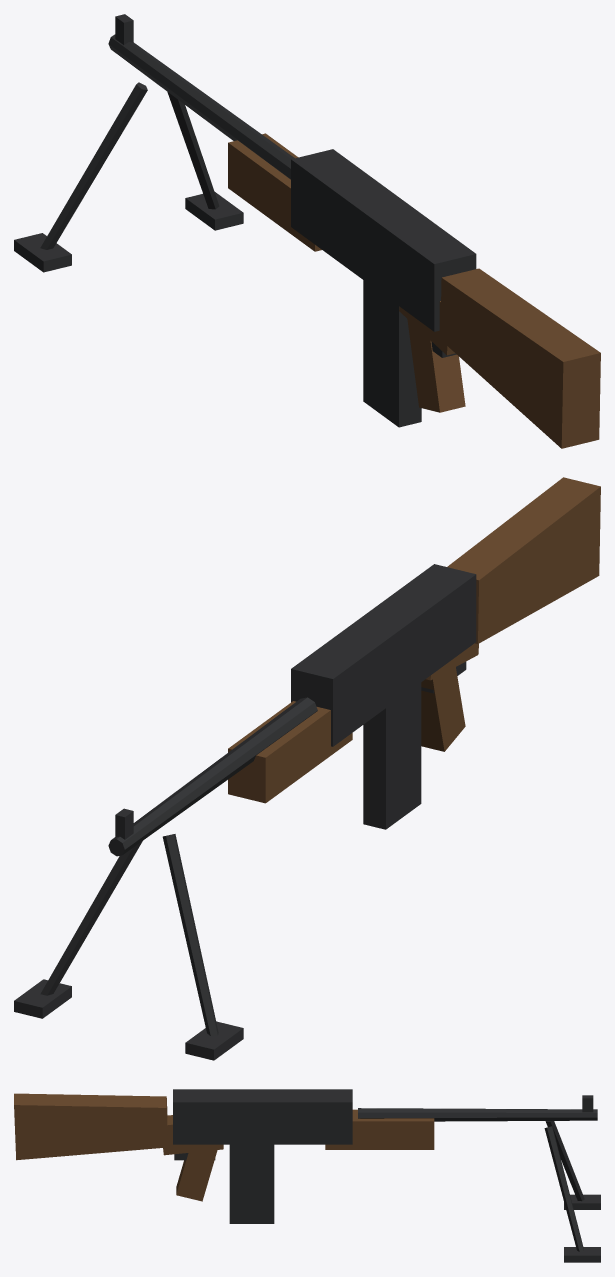
The model's file is bar.glb.
3 views of the same model, one above another, from view 1: azimuth 30°, elevation 25°; view 2: azimuth 150°, elevation 25°; view 3: azimuth 270°, elevation 25° (orthographic). The views are drawn at different scales.
Visible parts, largest first — view 1: bar; view 2: bar; view 3: bar.
Boxes of the visible parts, bbox=[...] form: bar: bbox=[14, 14, 600, 448]; bar: bbox=[14, 477, 600, 1060]; bar: bbox=[14, 1089, 600, 1262].
Size of the model in its own units: 0.266 by 0.276 by 1.08.
